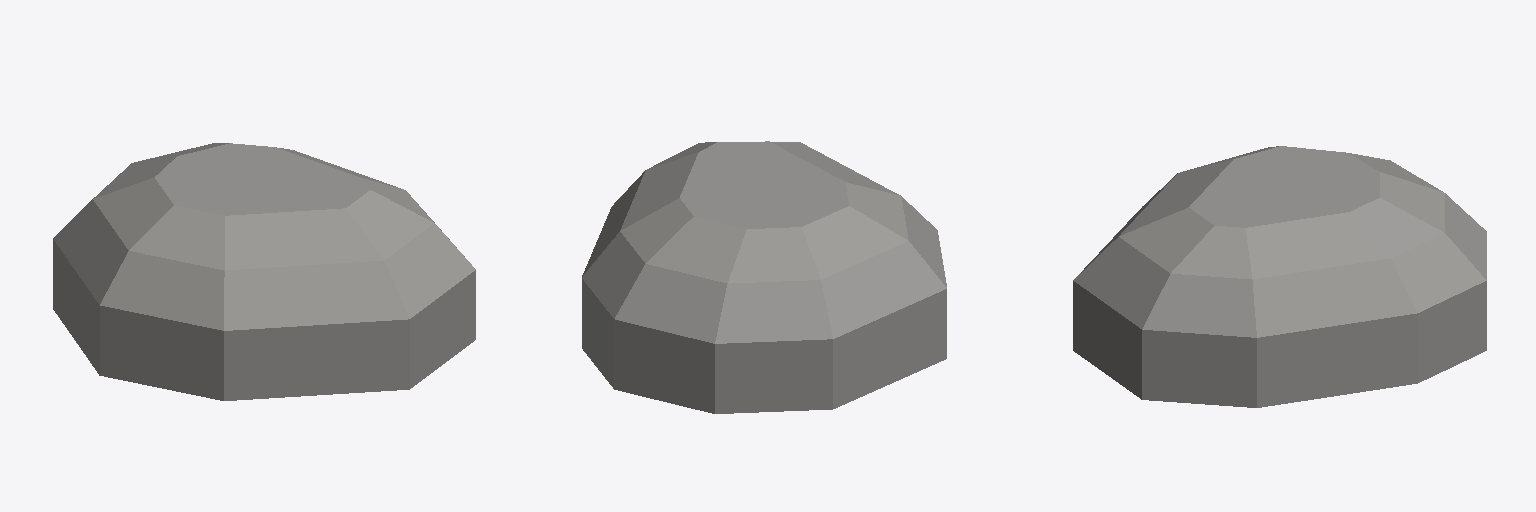
File: Hilly_Prop_Rock_1.obj
3 renders of one model, left to right at view 1: azimuth 30°, elevation 25°; view 2: azimuth 150°, elevation 25°; view 3: azimuth 270°, elevation 25°, orthographic.
Parts seen in each view (by area): view 1: object1; view 2: object1; view 3: object1.
Part boxes in pixels (x1,y1,x2,y2): object1: (53, 143, 475, 400); object1: (582, 141, 946, 413); object1: (1073, 146, 1486, 407).
Bounding box in the file's own units: 0.75 × 0.3 × 0.8.